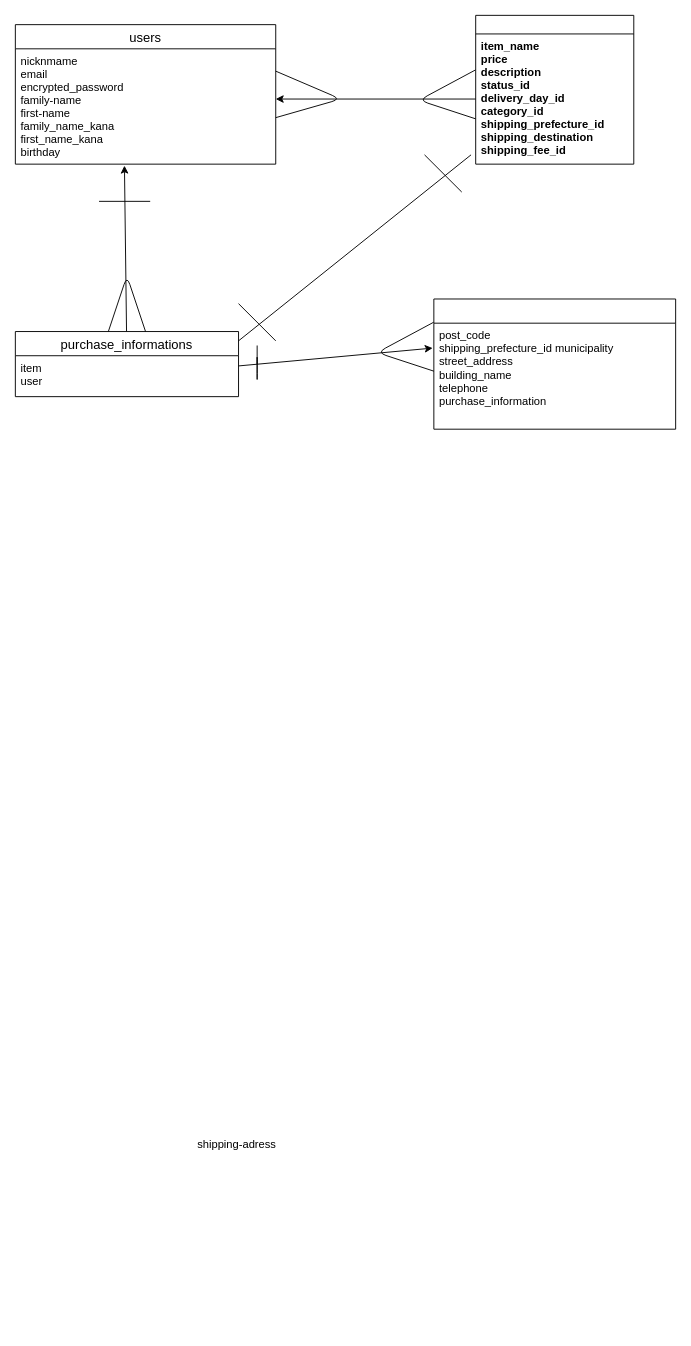
Image size: 691x1346. Some labels were removed from this diagram. The box of each missing label's shape, as (x1, y1, x2, y2) in pixels:
items: (475, 14, 634, 164)
shipping destinations: (433, 298, 676, 429)
